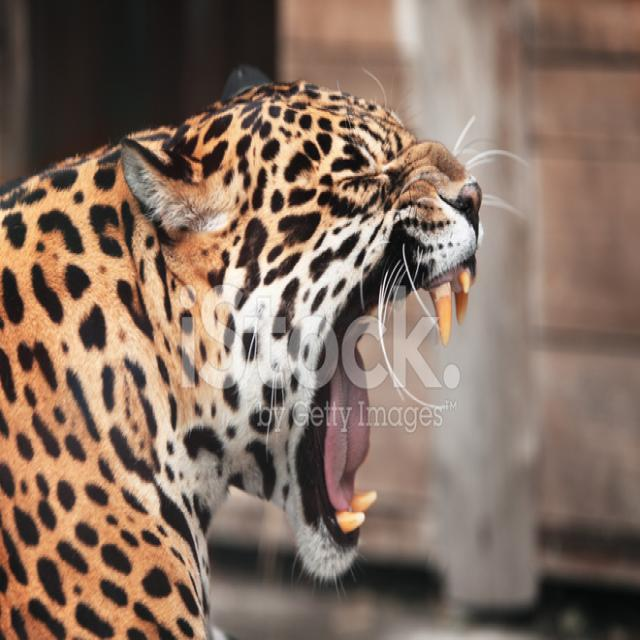Jaguar: (0, 77, 484, 640)
